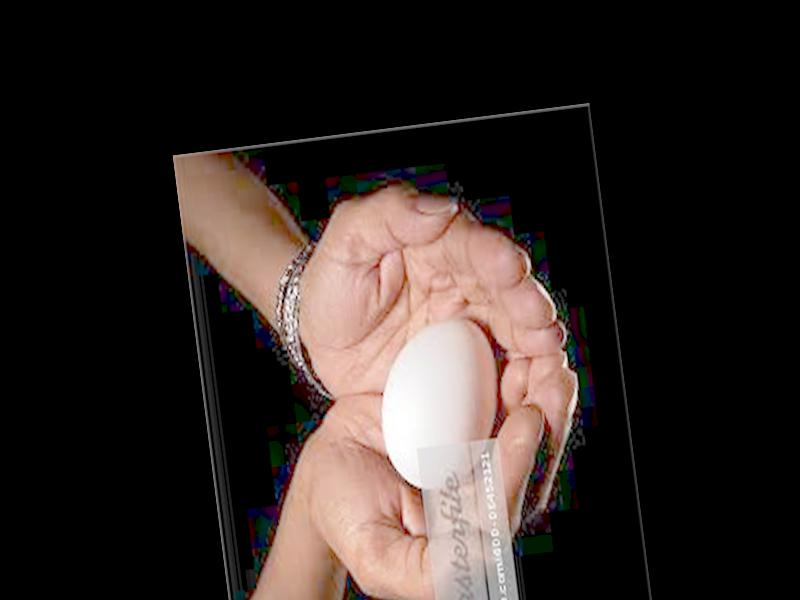Eggs: (371, 313, 510, 488)
